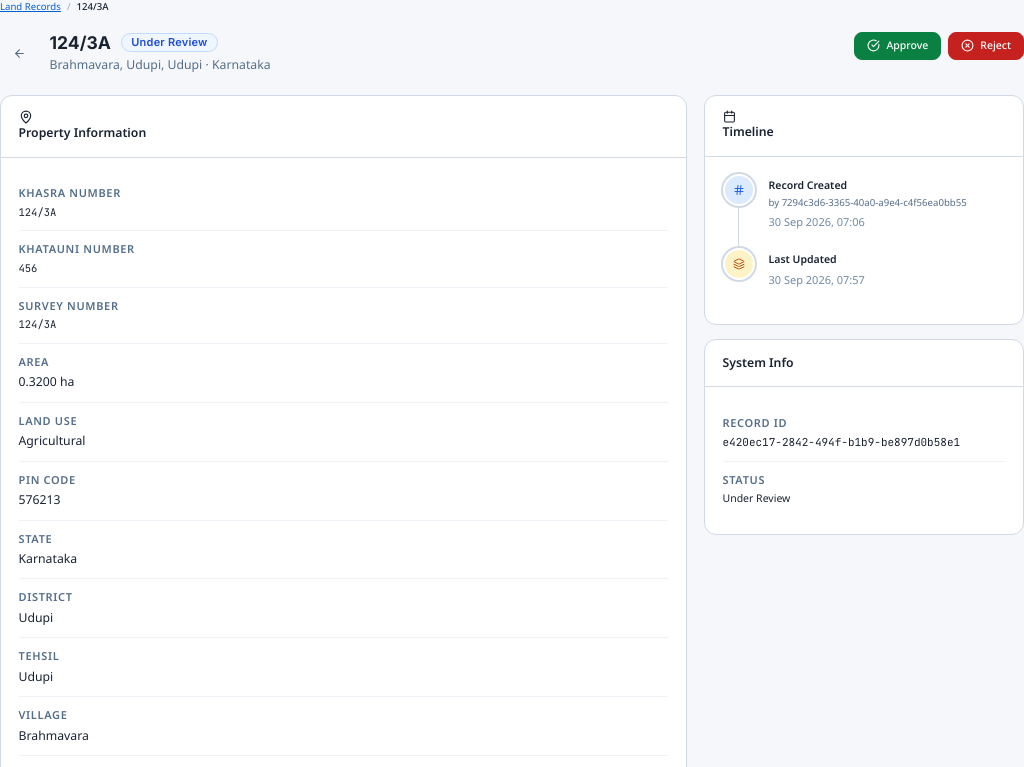
Test: LandRecordDetailPage › persists a rejection together with its reason
Step 1. Click the button "Reject" → x=986, y=46, box [948,32,1023,60]
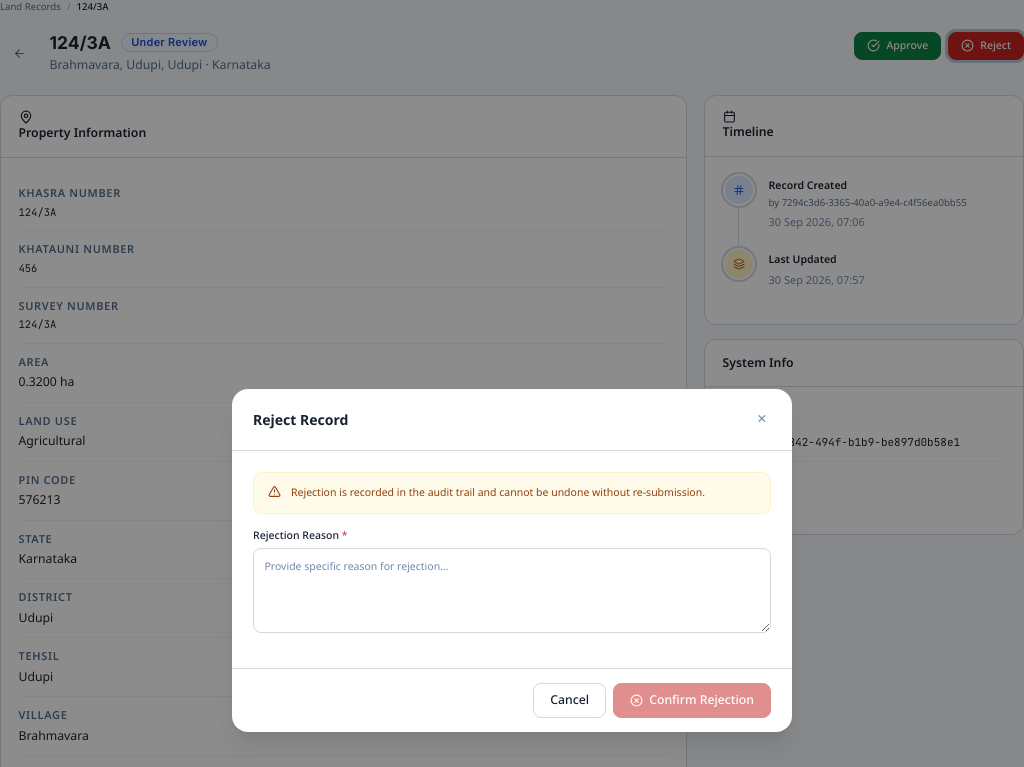
Step 2. Type "Khasra mismatch" into the text box with placeholder "Provide specific reason for rejection…" → x=512, y=591, box [253,548,771,634]
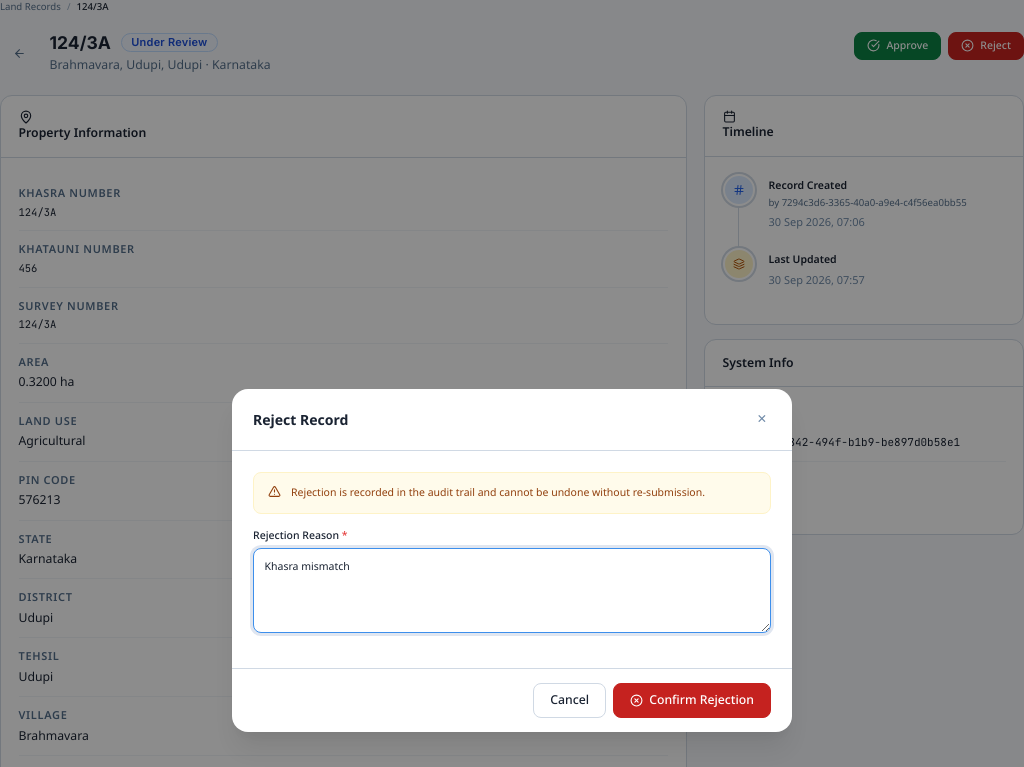
Step 3. Click the button "Confirm Rejection" → x=692, y=701, box [613,684,771,718]
(page scrolled)
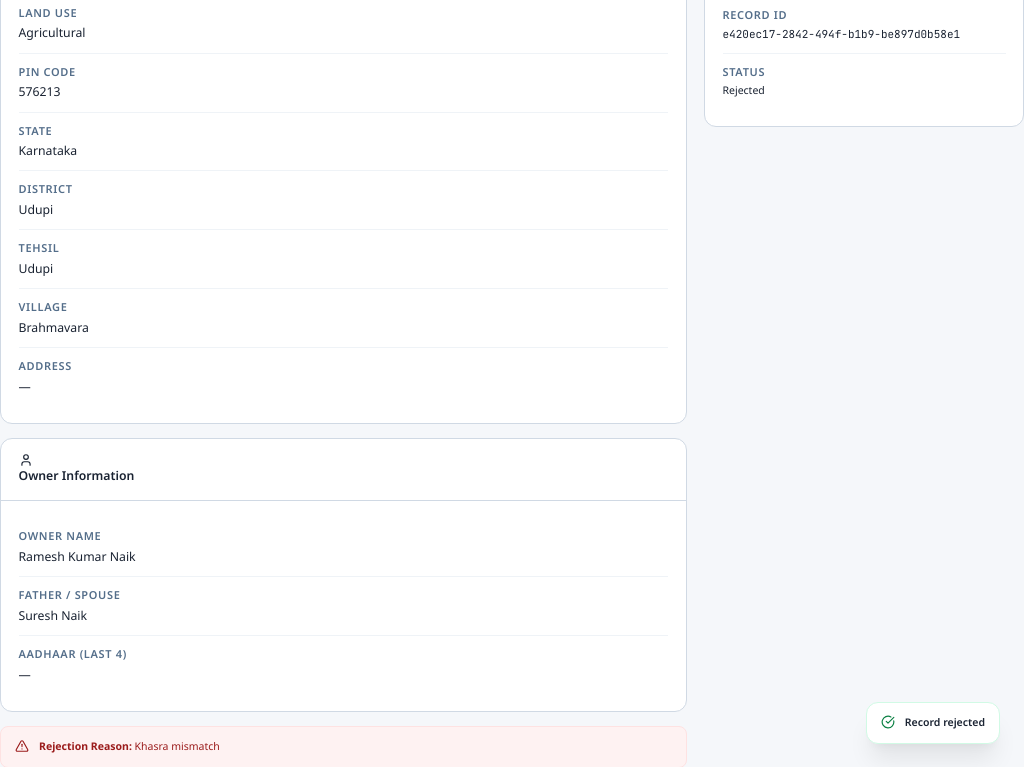
Result: the text "Rejection Reason: Khasra mismatch" is shown at [39,739,220,755]
